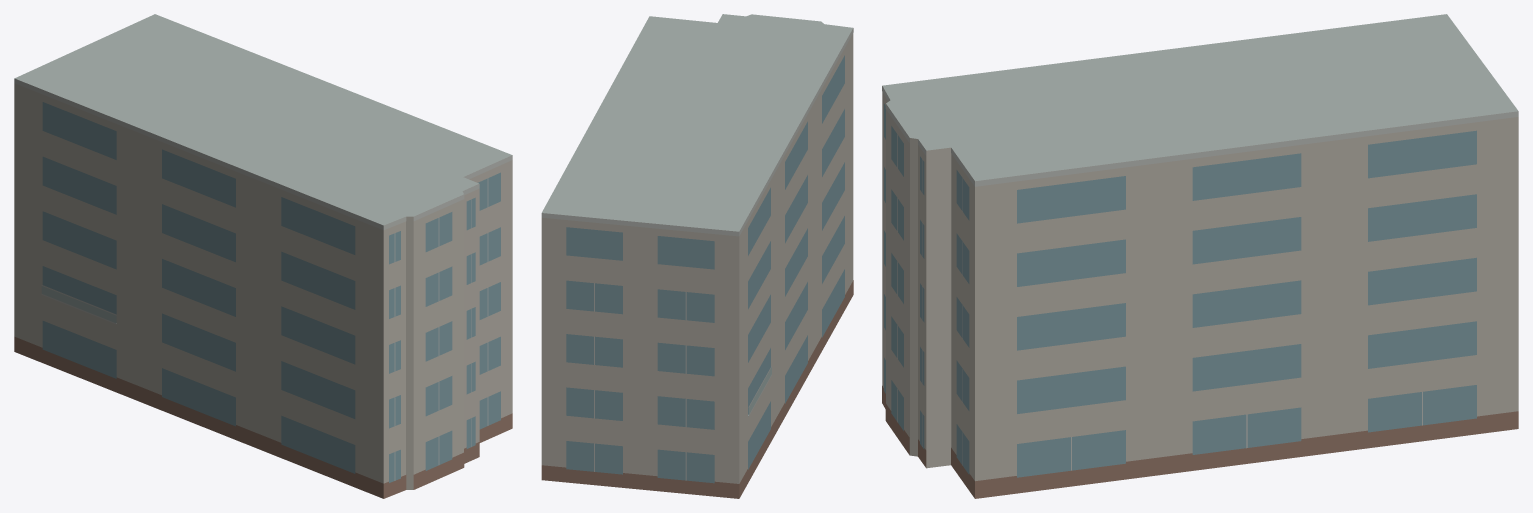
File: survey-upis-32612675.glb
3 views of the same model, side by side, from view 1: azimuth 30°, elevation 25°; view 2: azimuth 150°, elevation 25°; view 3: azimuth 270°, elevation 25° (orthographic). The views are drawn at different scales.
Parts seen in each view (by area): view 1: survey-upis-32612675.tmp; view 2: survey-upis-32612675.tmp; view 3: survey-upis-32612675.tmp.
Boxes of the visible parts, left/top/right/bottom form: survey-upis-32612675.tmp: left=14, top=14, right=512, bottom=498; survey-upis-32612675.tmp: left=541, top=14, right=853, bottom=498; survey-upis-32612675.tmp: left=882, top=14, right=1518, bottom=498.
Bounding box in the file's own units: 15.59 × 13.8 × 25.07.
